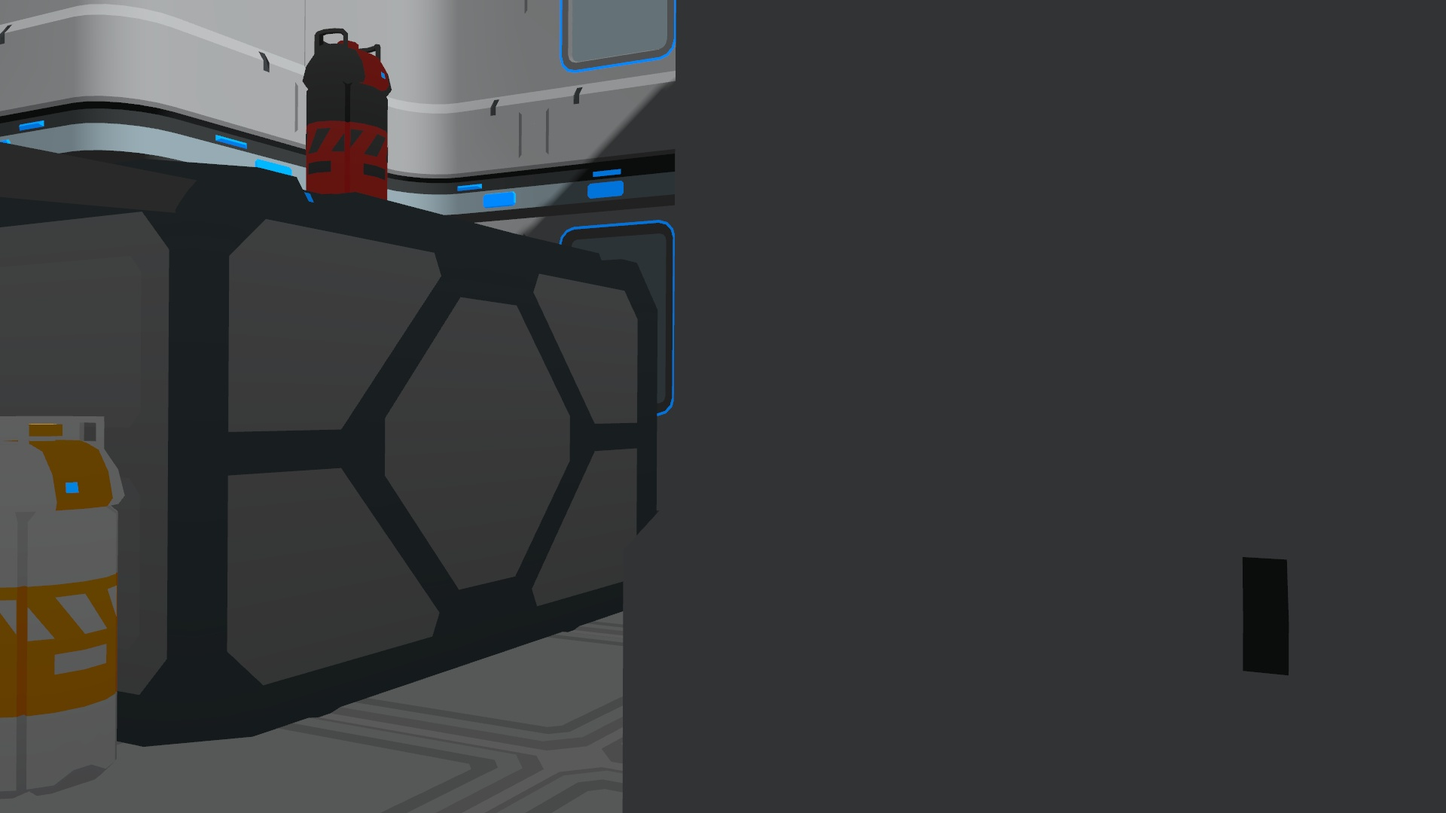red_barrel: (302, 21, 392, 213)
yellow_barrel: (0, 410, 129, 804)
